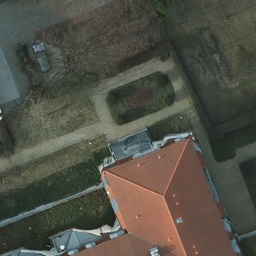car: (33, 43, 53, 73)
